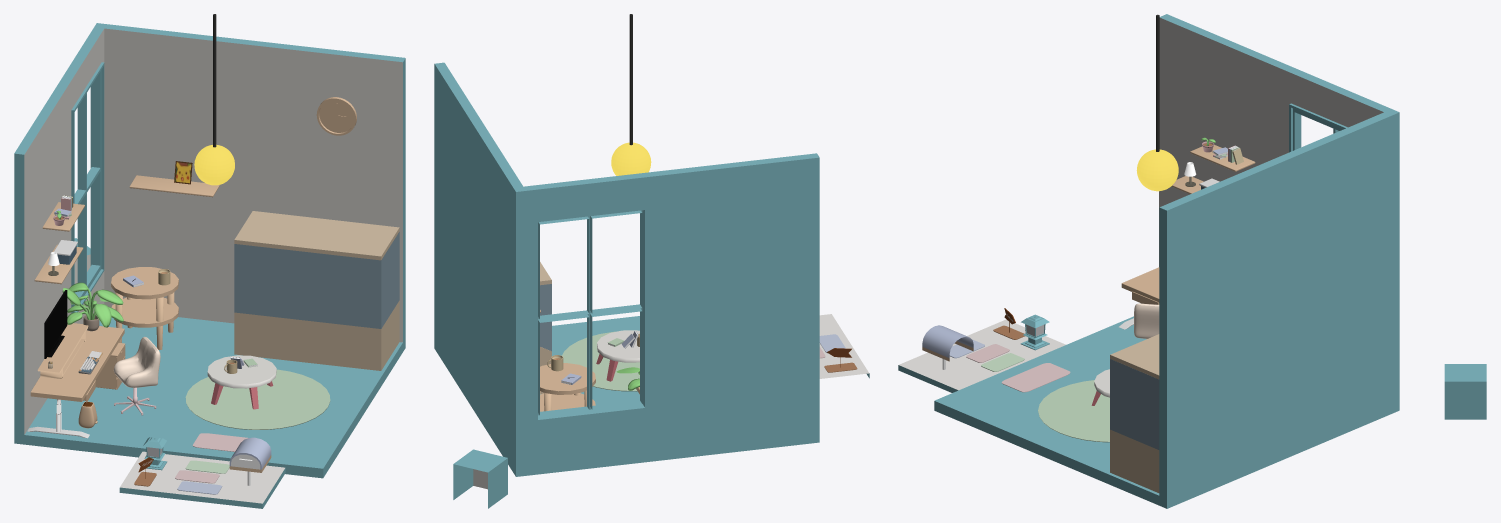
File: website version 3.glb
The picture shows the model from 3 angles, left to right: view 1: azimuth 30°, elevation 25°; view 2: azimuth 150°, elevation 25°; view 3: azimuth 270°, elevation 25°; orthographic projection. The views are drawn at different scales.
Visible parts, largest first — view 1: Body, Acquarium, Desks, Floor items, Mini floor, Shelves, Table stuff, TableOne, Ceiling lamp, Chair, Clock, Mailbox (+5 smaller); view 2: Body, Cube, Desks, Floor items, Ceiling lamp, Mini floor, TableOne, Acquarium, Table stuff; view 3: Body, Acquarium, Floor items, Mini floor, Cube, Ceiling lamp, Shelves, Mailbox, Desks, Chair, Lamp.
Boxes of the visible parts, x1=… form: Body: x1=14, y1=23, x2=405, y2=478; Acquarium: x1=234, y1=211, x2=399, y2=370; Desks: x1=27, y1=267, x2=178, y2=438; Floor items: x1=78, y1=343, x2=330, y2=451; Mini floor: x1=119, y1=451, x2=285, y2=508; Shelves: x1=34, y1=161, x2=219, y2=284; Table stuff: x1=48, y1=269, x2=170, y2=374; TableOne: x1=207, y1=355, x2=276, y2=409; Ceiling lamp: x1=194, y1=14, x2=234, y2=185; Chair: x1=113, y1=336, x2=160, y2=387; Clock: x1=316, y1=97, x2=356, y2=135; Mailbox: x1=229, y1=437, x2=271, y2=485; Body: x1=434, y1=62, x2=819, y2=476; Cube: x1=453, y1=449, x2=507, y2=508; Desks: x1=540, y1=363, x2=639, y2=411; Floor items: x1=562, y1=331, x2=639, y2=391; Ceiling lamp: x1=611, y1=14, x2=651, y2=175; Mini floor: x1=819, y1=314, x2=869, y2=378; TableOne: x1=596, y1=330, x2=639, y2=381; Acquarium: x1=540, y1=262, x2=551, y2=393; Table stuff: x1=547, y1=355, x2=639, y2=390; Body: x1=934, y1=14, x2=1399, y2=508; Acquarium: x1=1110, y1=334, x2=1159, y2=492; Floor items: x1=1001, y1=363, x2=1109, y2=442; Mini floor: x1=898, y1=319, x2=1065, y2=392; Cube: x1=1444, y1=364, x2=1486, y2=419; Ceiling lamp: x1=1136, y1=14, x2=1178, y2=191; Shelves: x1=1171, y1=137, x2=1255, y2=194; Mailbox: x1=922, y1=325, x2=973, y2=369; Desks: x1=1119, y1=267, x2=1159, y2=329; Chair: x1=1134, y1=303, x2=1159, y2=338; Lamp: x1=1020, y1=314, x2=1049, y2=350.
Size of the model in its own units: 22.15 by 20.76 by 27.99.
55 materials, 1 textured.
